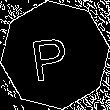P_N: (33, 27, 77, 83)
